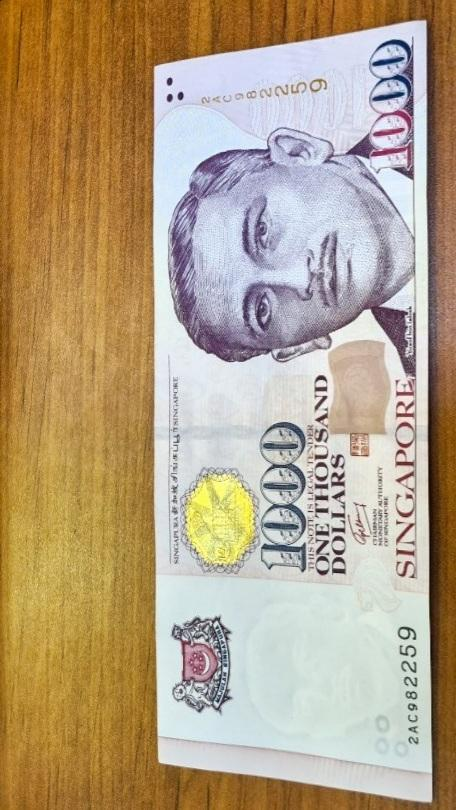1000SingaporeDollar: (158, 42, 428, 802)
